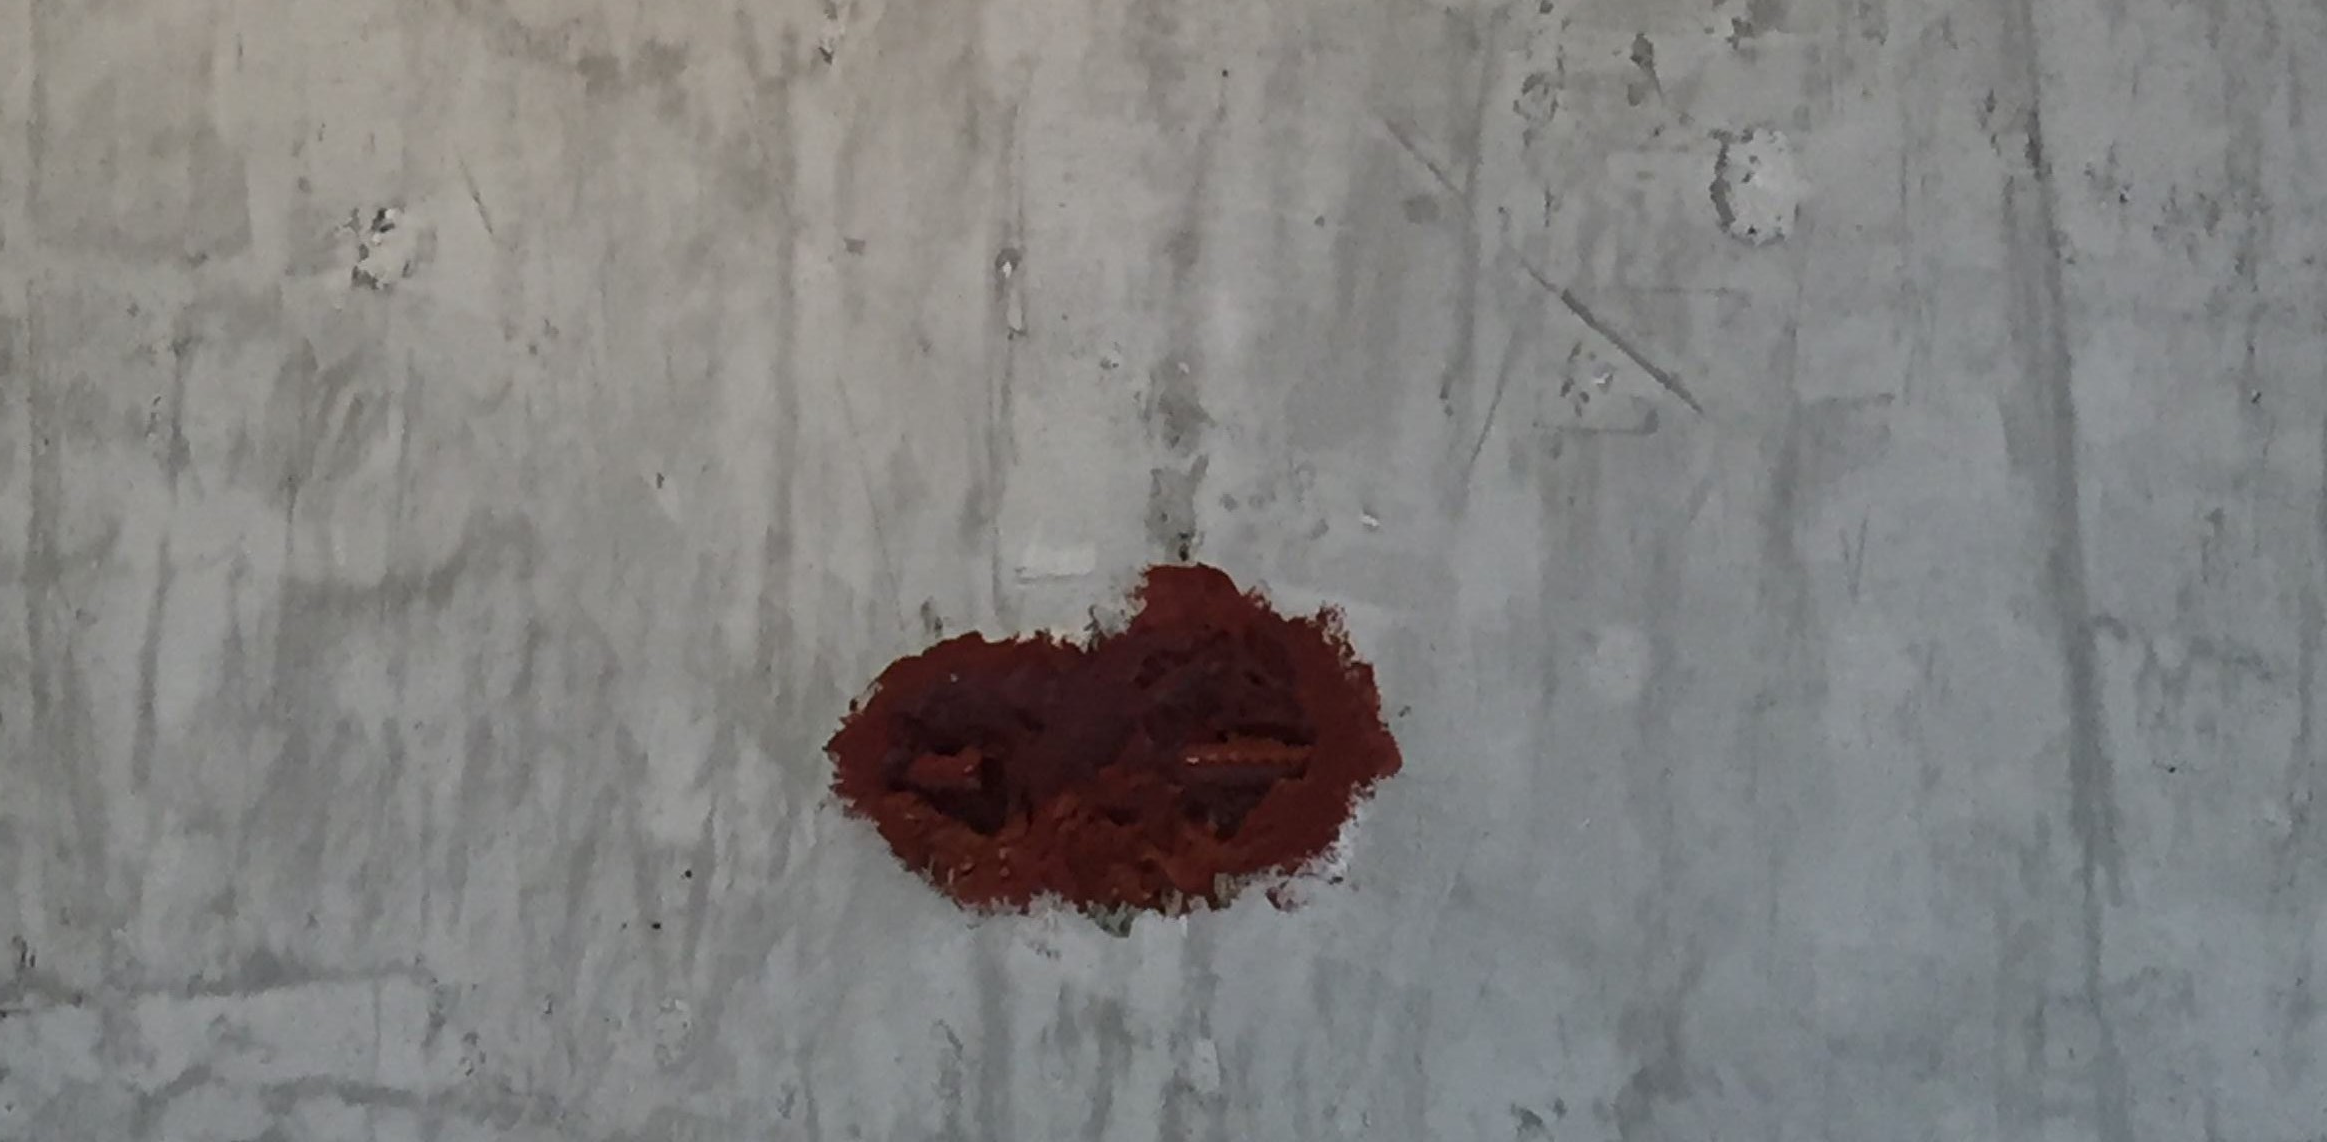Corrosion: (818, 541, 1405, 918)
Exposed reinforcement: (1177, 736, 1318, 785), (902, 747, 982, 792)
